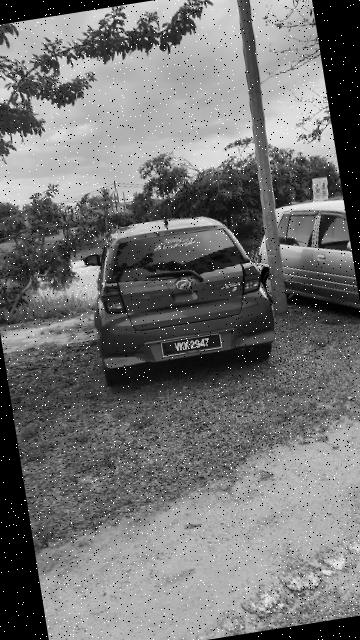License_Plate: (158, 331, 227, 361)
car: (72, 198, 283, 392)
